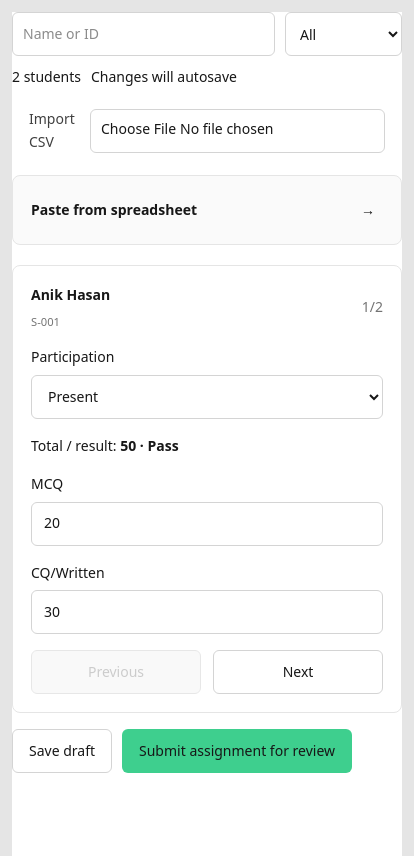
Scenario: MarksWorkspace › provides a one-student mobile workflow with previous and next navigation
This screenshot has width=414, height=856.
Check: the element that starts with "Anik Hasan" is shown, box [31,285,110,304]
Click the button "Next" at (298,672), box [213,650,383,694]
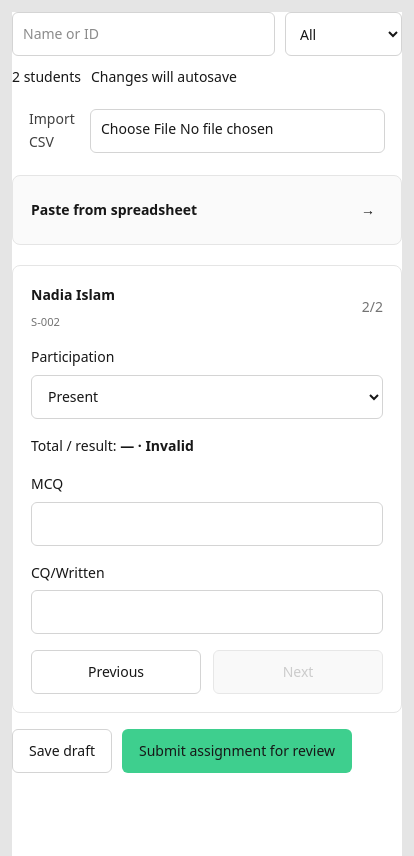
Check: the element that starts with "Nadia Islam" is shown, box [31,285,115,304]
Check: the button "Previous" is enabled, box [31,650,201,694]
